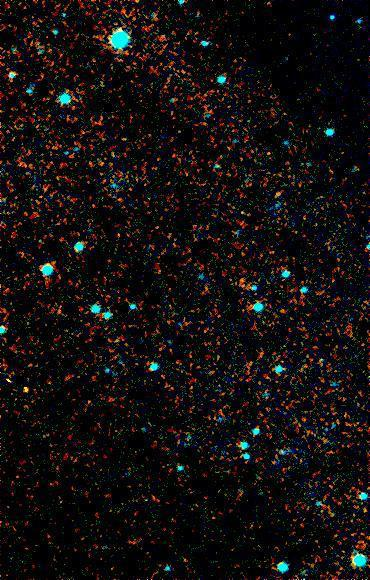star: (10, 373, 40, 403)
